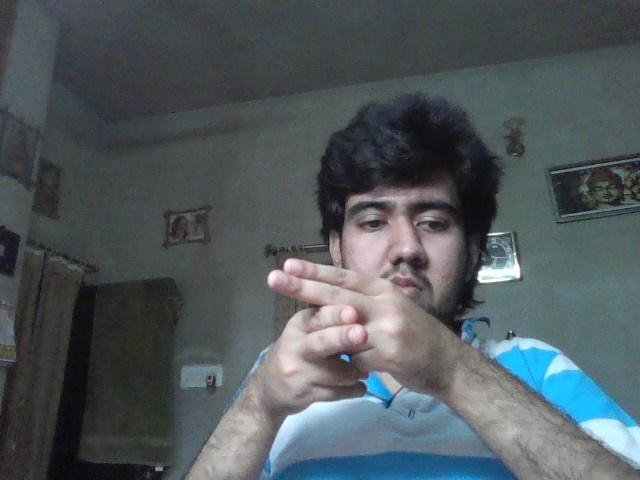Name: (264, 257, 445, 417)
